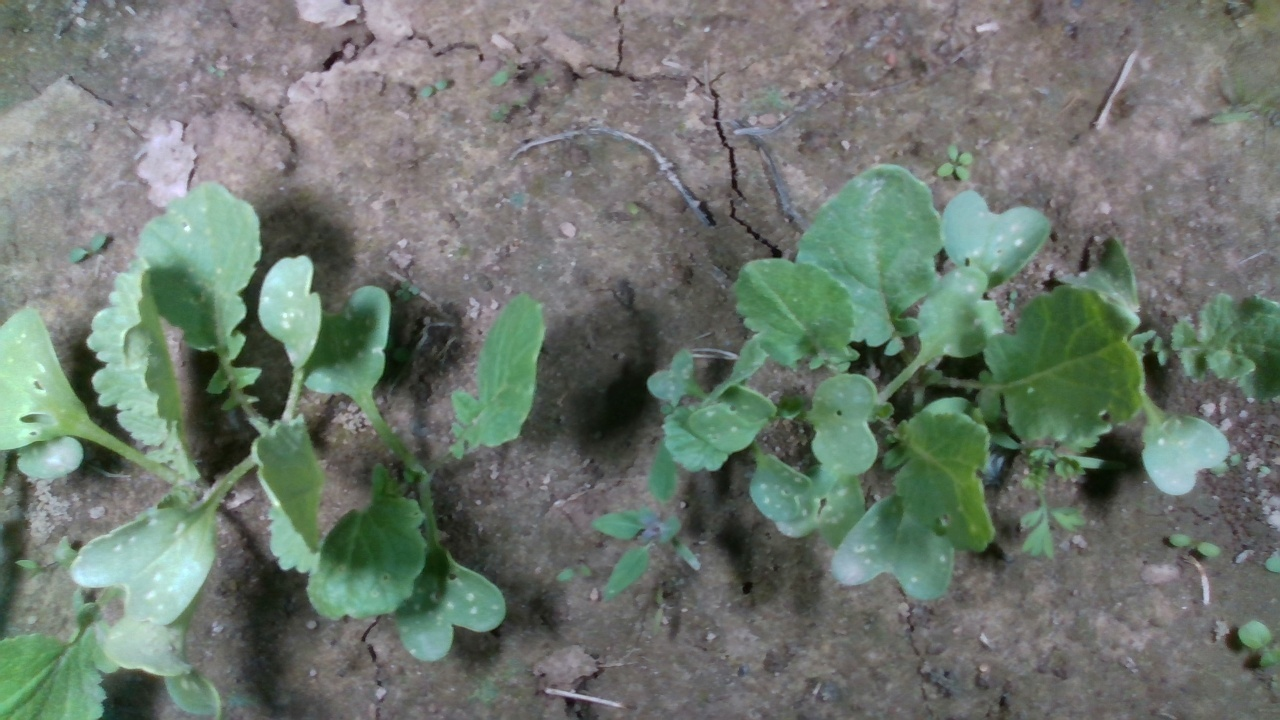weed: (934, 143, 973, 183), (1166, 532, 1222, 558), (68, 231, 108, 264)
